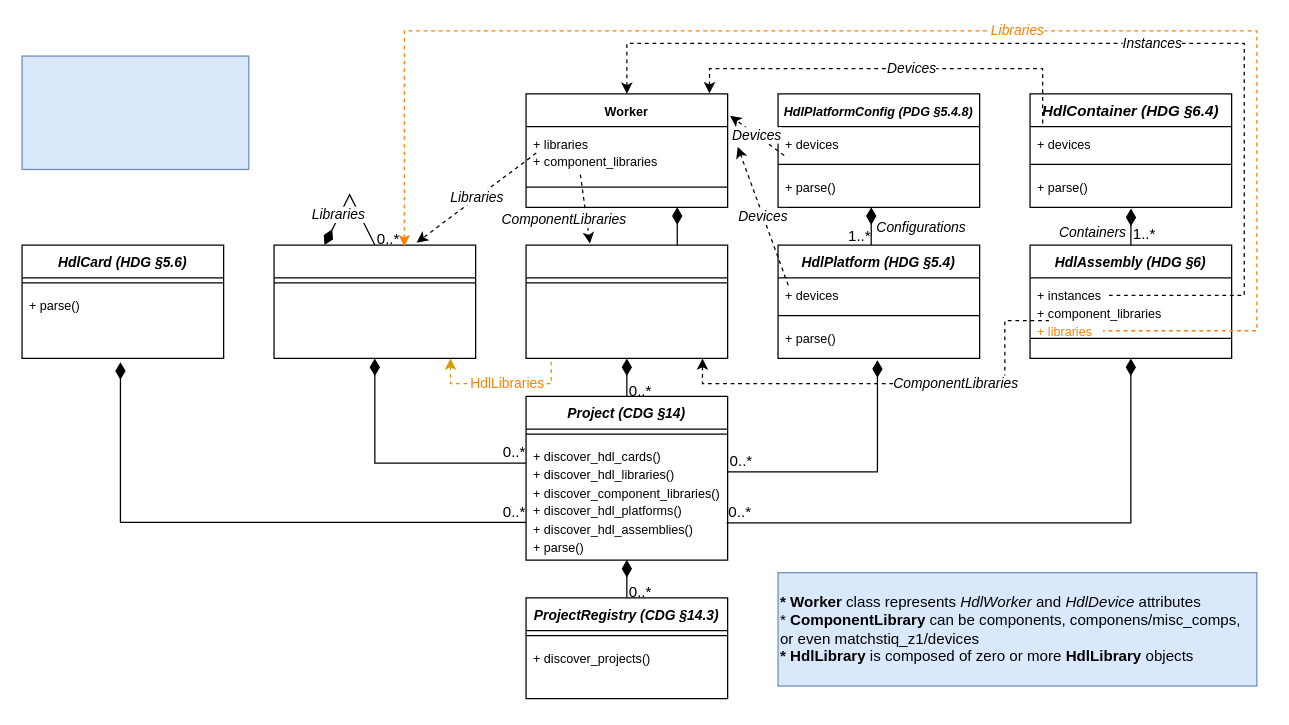
Image size: 1289x725. Some labels were removed from this diagram. The shapes that lost their labels are listed below. From the top down, each one's centre as x and y in pixels, then its label:
point (135, 112): LEGEND Class Name XML Attribute LEGACY Make ---> Search Path during build
point (374, 301): HdlLibrary (HDG §5.2)
point (626, 301): ComponentLibrary (CDG §10)
